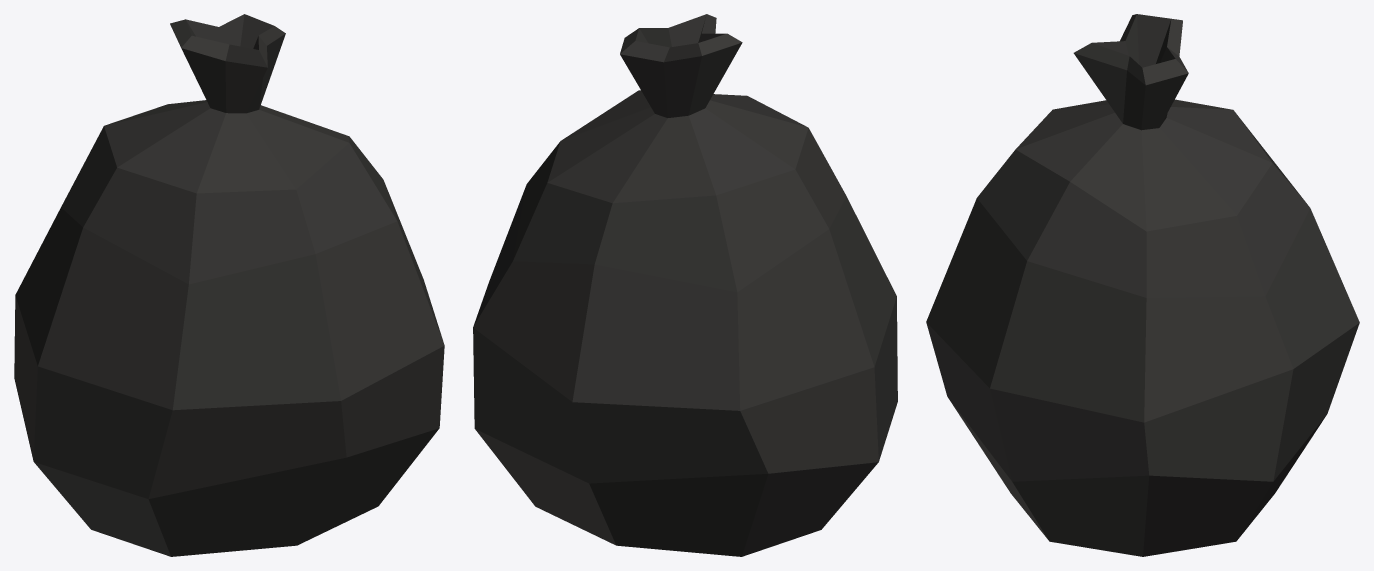
The model's file is Trash_Bag_2.fbx.
3 renders of one model, left to right at view 1: azimuth 30°, elevation 25°; view 2: azimuth 150°, elevation 25°; view 3: azimuth 270°, elevation 25°, orthographic. The views are drawn at different scales.
Visible parts, largest first — view 1: Trash_Bag_2; view 2: Trash_Bag_2; view 3: Trash_Bag_2.
Part boxes in pixels (bbox=[...]): Trash_Bag_2: bbox=[14, 14, 444, 556]; Trash_Bag_2: bbox=[473, 14, 897, 556]; Trash_Bag_2: bbox=[926, 14, 1359, 556].
Size of the model in its own units: 60.65 by 69.78 by 59.53.
Materials: 1 (1 with a texture image).
